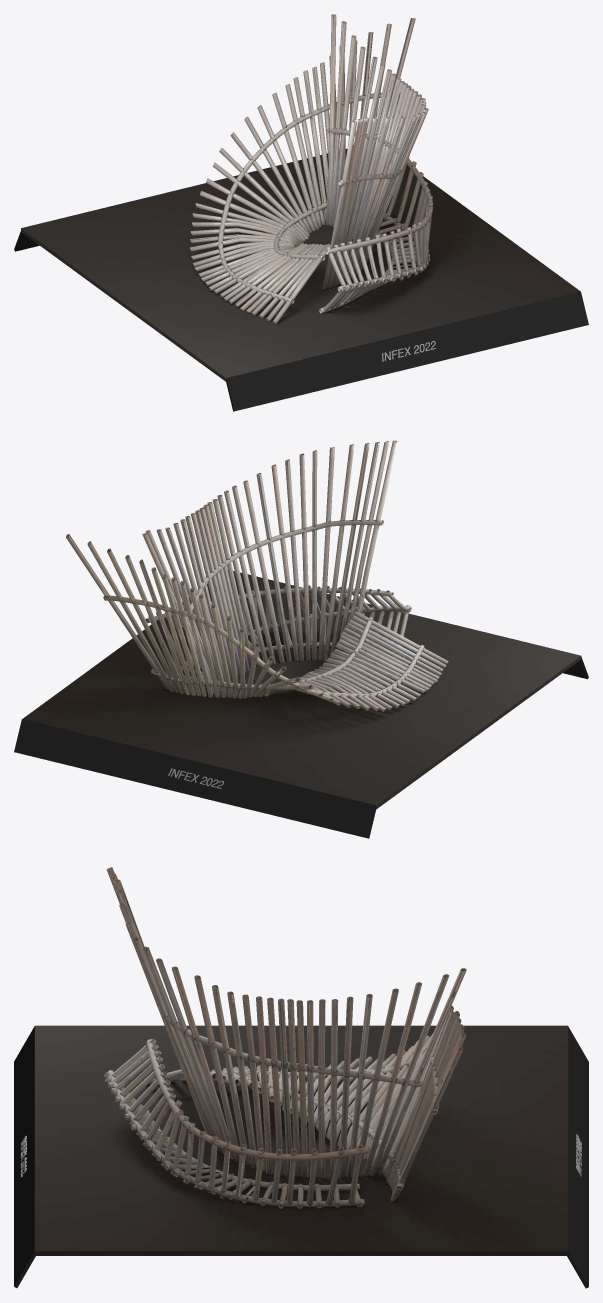
The picture shows the model from 3 angles, top to bottom: view 1: azimuth 30°, elevation 25°; view 2: azimuth 150°, elevation 25°; view 3: azimuth 270°, elevation 25°; orthographic projection. The views are drawn at different scales.
Visible parts, largest first — view 1: Plane.016, BezierCurve, Cube.003; view 2: Plane.016, BezierCurve, Cube.002; view 3: Plane.016, BezierCurve, Cube.002, Cube.003.
Boxes of the visible parts, x1=… form: Plane.016: x1=21, y1=142, x2=580, y2=381; BezierCurve: x1=189, y1=14, x2=433, y2=324; Cube.003: x1=226, y1=292, x2=588, y2=411; Plane.016: x1=22, y1=569, x2=581, y2=809; BezierCurve: x1=66, y1=440, x2=448, y2=711; Cube.002: x1=14, y1=719, x2=376, y2=838; Plane.016: x1=35, y1=1025, x2=568, y2=1255; BezierCurve: x1=104, y1=867, x2=466, y2=1208; Cube.002: x1=565, y1=1027, x2=588, y2=1288; Cube.003: x1=14, y1=1026, x2=35, y2=1287.
Size of the model in its own units: 5.94 by 3.63 by 6.4.
Materials: 4 (2 with a texture image).
